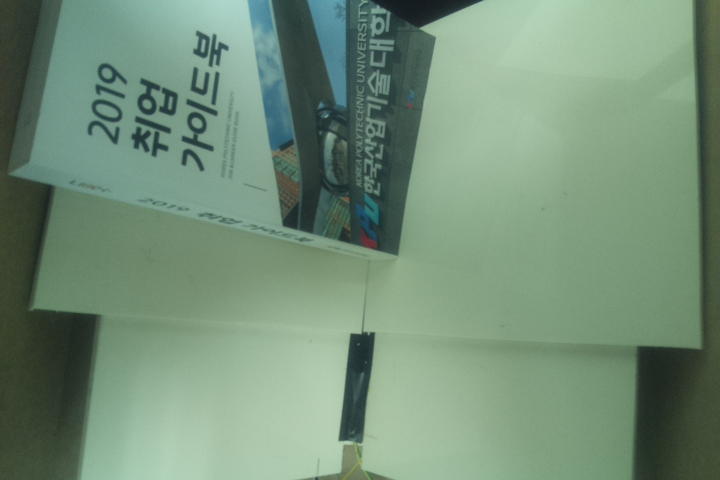book: (2, 1, 437, 264)
